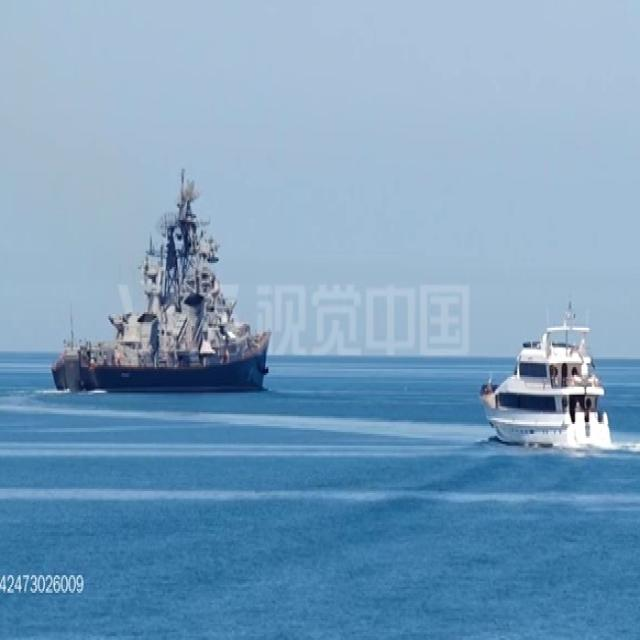houseboat: (476, 303, 610, 452)
navalvessels: (50, 168, 272, 394)
